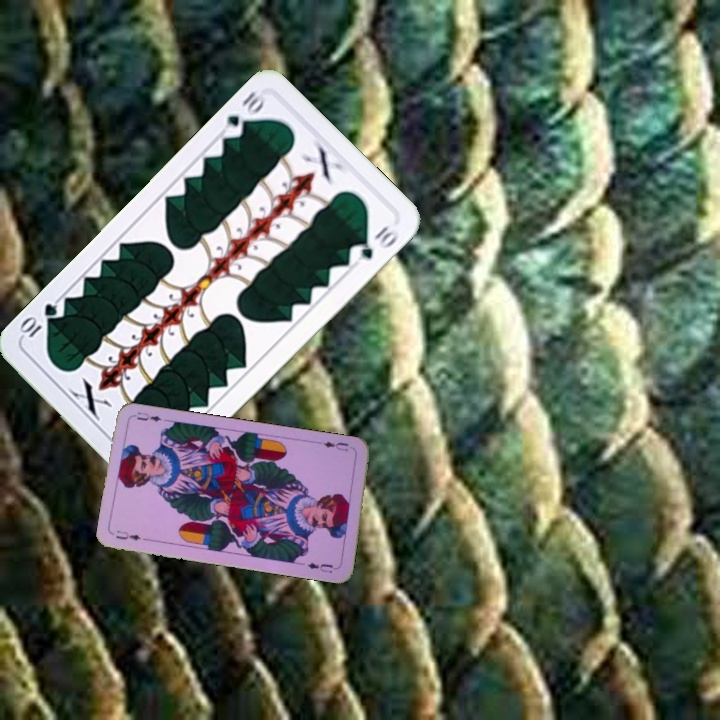EU: (319, 437, 351, 454), (112, 526, 143, 543)
G10: (218, 87, 269, 141)
